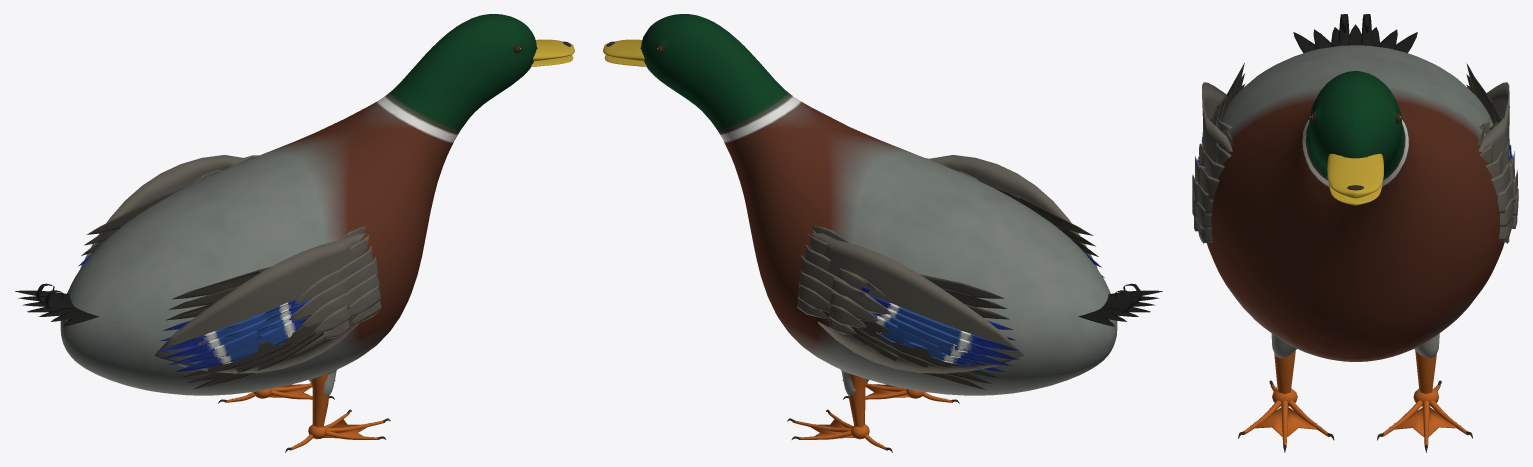
Rendered from mallard.glb.
3 views of the same model, side by side, from view 1: azimuth 30°, elevation 25°; view 2: azimuth 150°, elevation 25°; view 3: azimuth 270°, elevation 25° (orthographic). The views are drawn at different scales.
Visible parts, largest first — view 1: Continuous anatomical skin | duck_mallard, Cambered folded wing foundation, Overlapping closed flight feather 00, Overlapping closed flight feather 03, Mallard small curled flattened central tail vane, Articulated bird toe 0, Broad rounded upper waterfowl bill, Articulated bird toe 0.001, Articulated tibiotarsus hock and tarsometatarsus; view 2: Continuous anatomical skin | duck_mallard, Cambered folded wing foundation, Overlapping closed flight feather 00, Overlapping closed flight feather 03, Mallard small curled flattened central tail vane, Articulated bird toe 0.001, Broad rounded upper waterfowl bill, Articulated bird toe 0, Articulated tibiotarsus hock and tarsometatarsus.001; view 3: Continuous anatomical skin | duck_mallard, Cambered folded wing foundation, Broad rounded upper waterfowl bill, Mallard small curled flattened central tail vane, Articulated bird toe 0.001, Articulated bird toe 0, Overlapping closed flight feather 00, Articulated tibiotarsus hock and tarsometatarsus, Articulated tibiotarsus hock and tarsometatarsus.001.
Boxes of the visible parts, box(x1,y1,x2,y2) form: Continuous anatomical skin | duck_mallard: box(60, 14, 536, 396); Cambered folded wing foundation: box(80, 155, 381, 373); Overlapping closed flight feather 00: box(81, 188, 323, 388); Overlapping closed flight feather 03: box(78, 252, 310, 371); Mallard small curled flattened central tail vane: box(15, 283, 99, 326); Articulated bird toe 0: box(290, 413, 385, 450); Broad rounded upper waterfowl bill: box(531, 39, 574, 66); Articulated bird toe 0.001: box(225, 383, 312, 402); Articulated tibiotarsus hock and tarsometatarsus: box(311, 374, 328, 427); Continuous anatomical skin | duck_mallard: box(641, 14, 1117, 396); Cambered folded wing foundation: box(797, 155, 1097, 373); Overlapping closed flight feather 00: box(827, 184, 1098, 389); Overlapping closed flight feather 03: box(859, 252, 1104, 372); Mallard small curled flattened central tail vane: box(1078, 283, 1162, 326); Articulated bird toe 0.001: box(792, 413, 887, 450); Broad rounded upper waterfowl bill: box(603, 39, 646, 66); Articulated bird toe 0: box(865, 383, 952, 402); Articulated tibiotarsus hock and tarsometatarsus.001: box(848, 374, 866, 427); Continuous anatomical skin | duck_mallard: box(1206, 45, 1504, 361); Cambered folded wing foundation: box(1192, 82, 1518, 243); Broad rounded upper waterfowl bill: box(1327, 153, 1383, 205); Mallard small curled flattened central tail vane: box(1293, 14, 1417, 53); Articulated bird toe 0.001: box(1381, 385, 1468, 447); Articulated bird toe 0: box(1242, 385, 1329, 447); Overlapping closed flight feather 00: box(1211, 63, 1501, 130); Articulated tibiotarsus hock and tarsometatarsus: box(1274, 351, 1295, 393); Articulated tibiotarsus hock and tarsometatarsus.001: box(1415, 350, 1436, 394).
Size of the model in its own units: 0.57 by 0.3518 by 0.231.
Materials: 15 (15 with a texture image).
